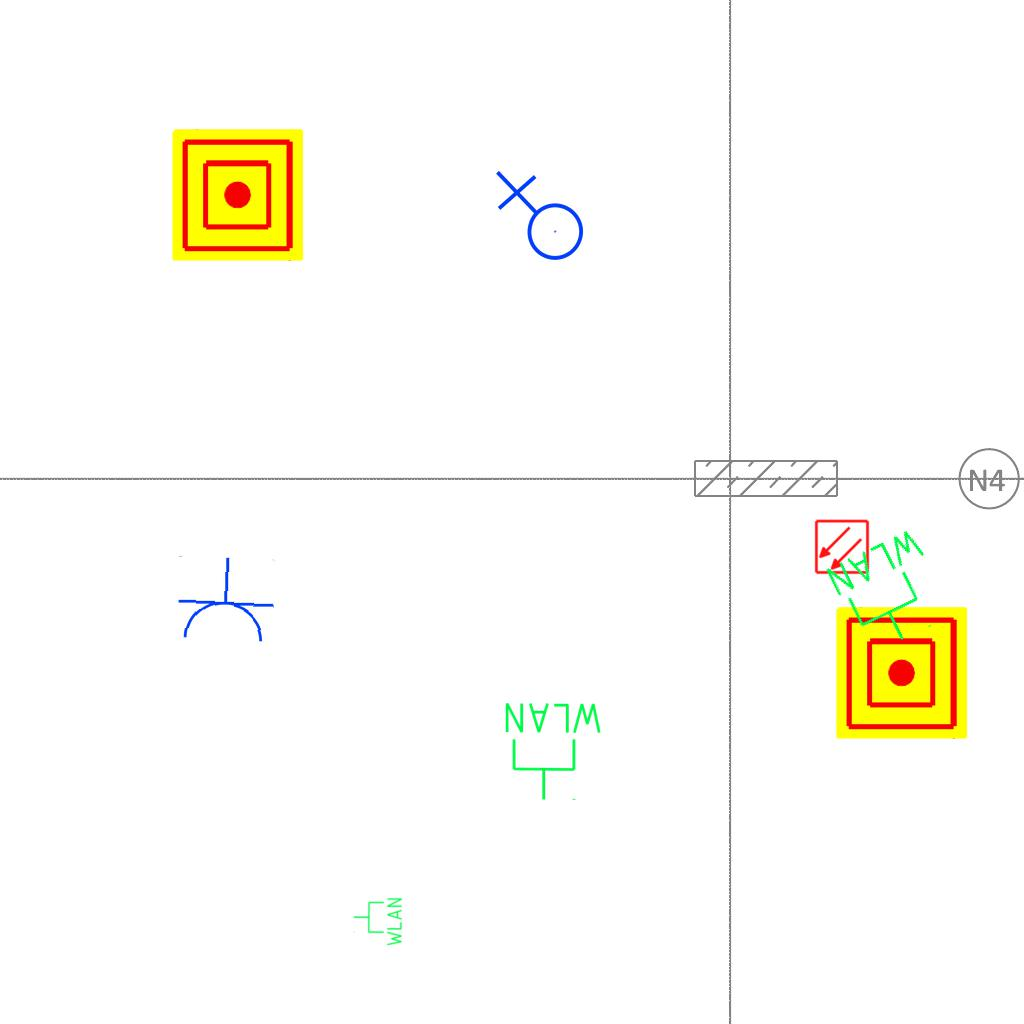Elektroanschluss_allgemein_230V_Geraeteanschlussdose_230V: (491, 170, 585, 269)
NAM-Nichtautomatischer_Melder: (172, 129, 304, 261), (836, 607, 968, 739)
RMO_Rauchmelder_optischer: (814, 519, 870, 575)
Schukosteckdose_einfach: (172, 554, 278, 647)
WLAN: (820, 521, 960, 662), (501, 699, 606, 803), (352, 896, 404, 948)
